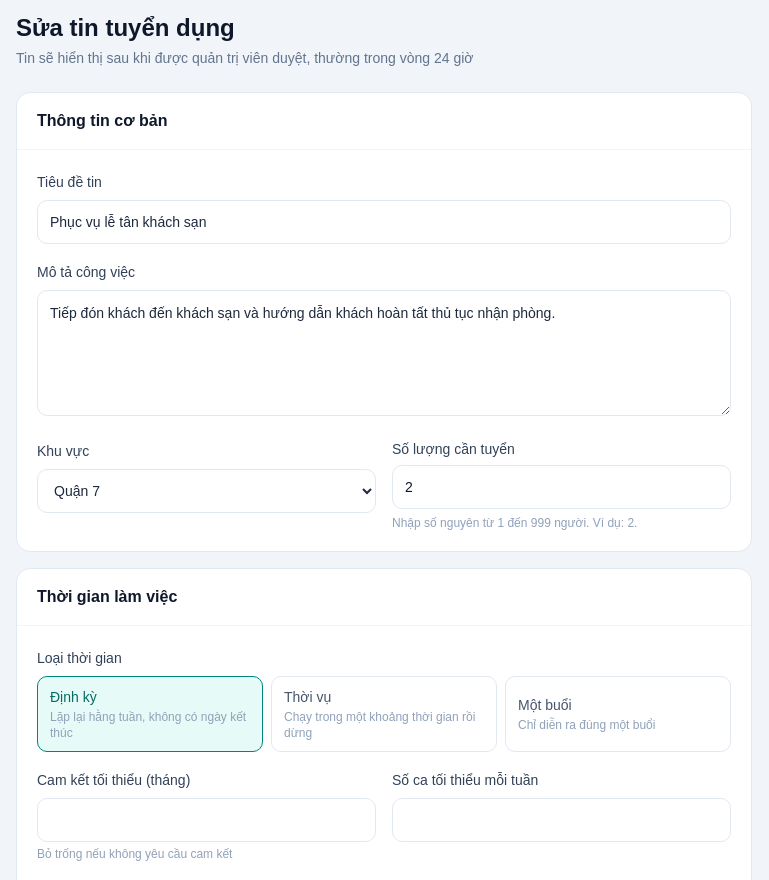
Test case: Số lượng cần tuyển › 0002 được chuẩn hoá khi rời ô ở chế độ sửa=true
This screenshot has width=769, height=880.
Replace the text in the number field labelled "Số lượng cần tuyển" with "0002": (562, 487) [392,465,731,509]
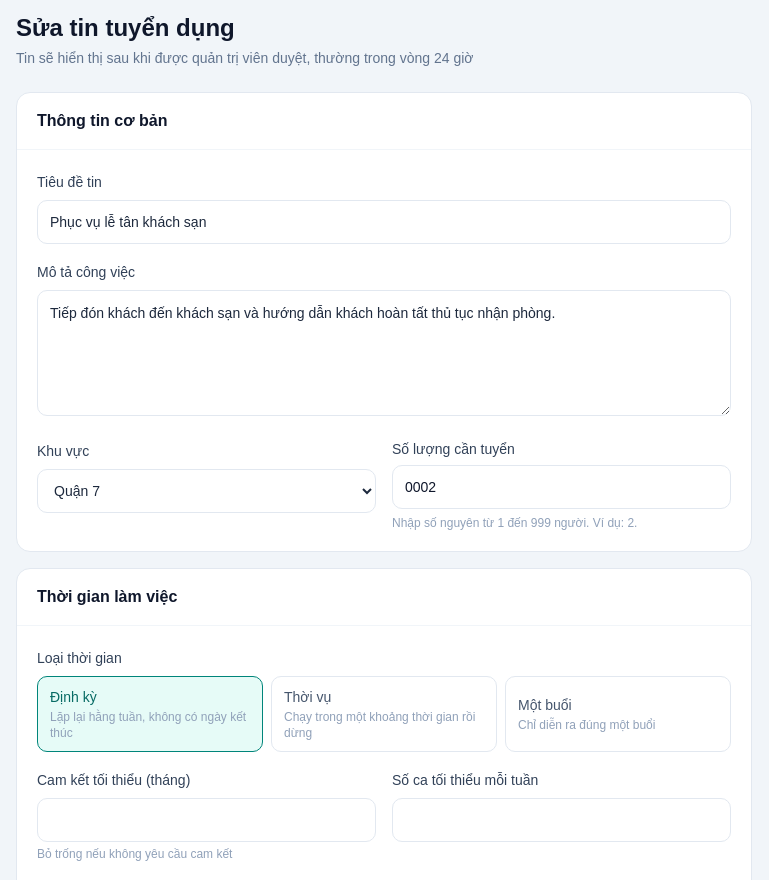
Leave the number field labelled "Số lượng cần tuyển", box [392,465,731,509]
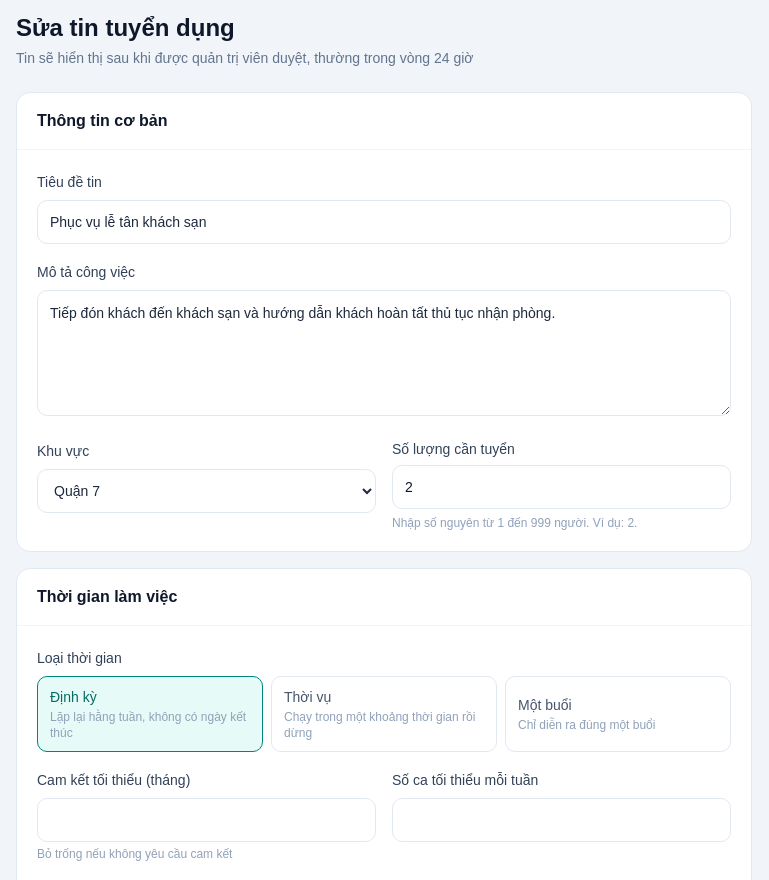
Expected: the text "Nhập số nguyên từ 1 đến 999 người. Ví dụ: 2." is shown, [392,516,637,530]
Result: the number field labelled "Số lượng cần tuyển" holds "2" at [392,465,731,509]
